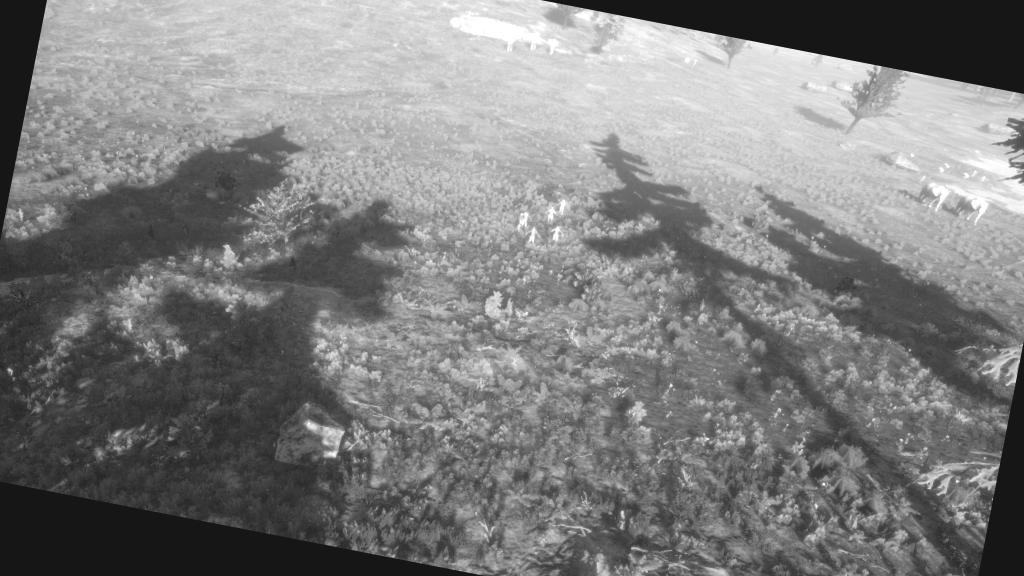elephant: (912, 166, 955, 226), (953, 181, 996, 237), (490, 24, 524, 63), (518, 23, 546, 63), (540, 32, 566, 62)
human: (502, 177, 584, 266)
